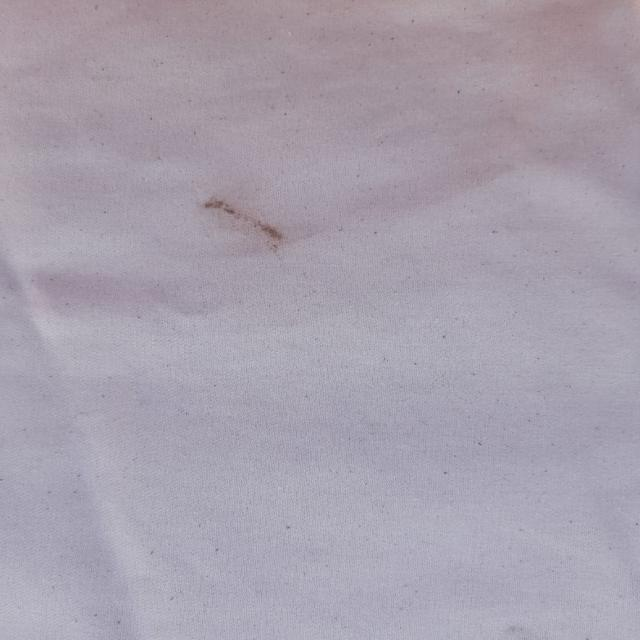taaaches: (188, 183, 296, 268)
